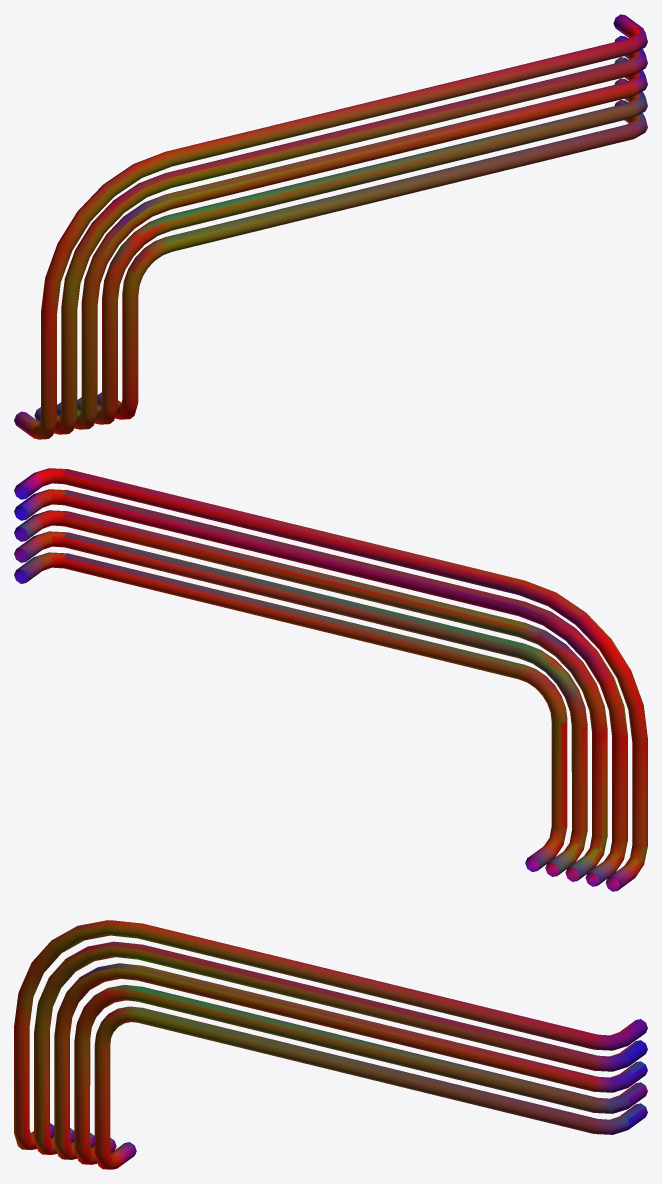
File: AF_PipesA_B.fbx
3 views of the same model, one above another, from view 1: azimuth 30°, elevation 25°; view 2: azimuth 150°, elevation 25°; view 3: azimuth 330°, elevation 25° (orthographic).
Parts seen in each view (by area): view 1: Circle.004; view 2: Circle.004; view 3: Circle.004.
Part boxes in pixels (x1,y1,x2,y2): Circle.004: (14,14,647,439); Circle.004: (14,468,647,891); Circle.004: (14,920,647,1169).
Bounding box in the file's own units: 512 × 212 × 46.
